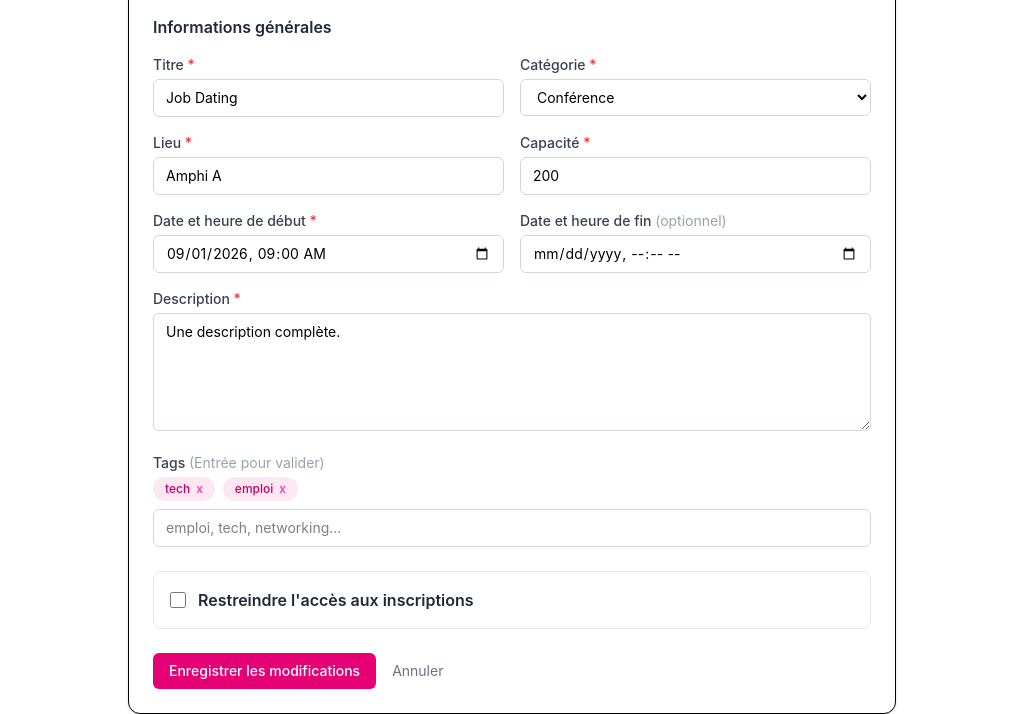
Test case: EventEditPage › shows 403 error when updateEvent is rejected with 403
(page scrolled)
Click the button "Enregistrer les modifications" at (265, 671), box [153,653,376,689]
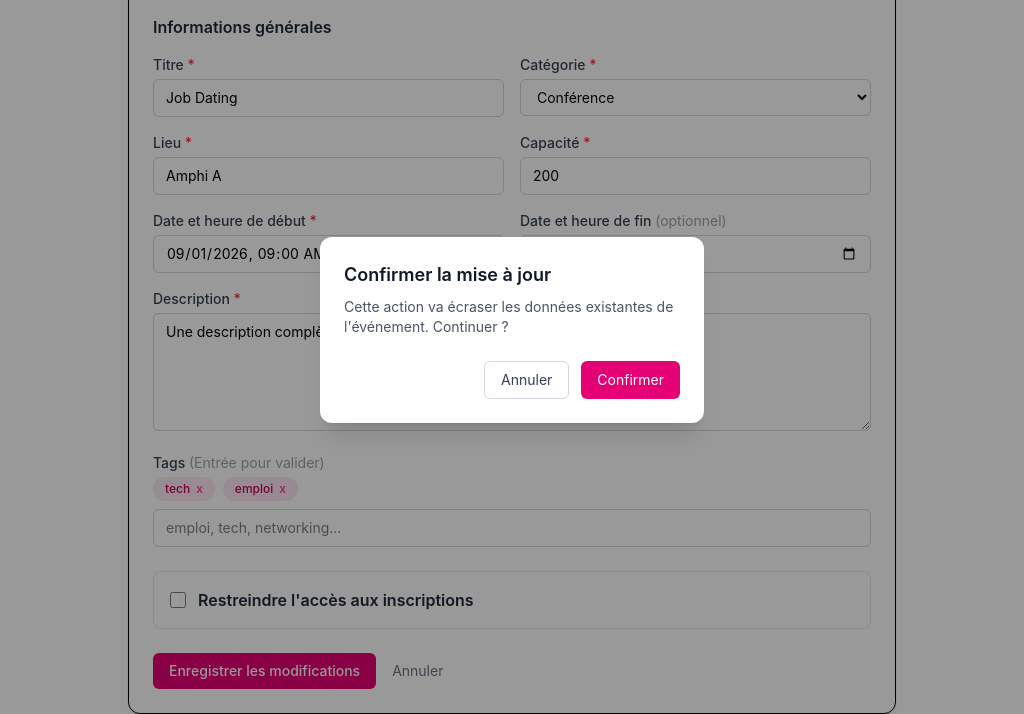
Now the heading "Confirmer la mise à jour" is shown, box [344,264,551,285]
Click the button "Confirmer" at (631, 380), box [581,361,680,399]
(page scrolled)
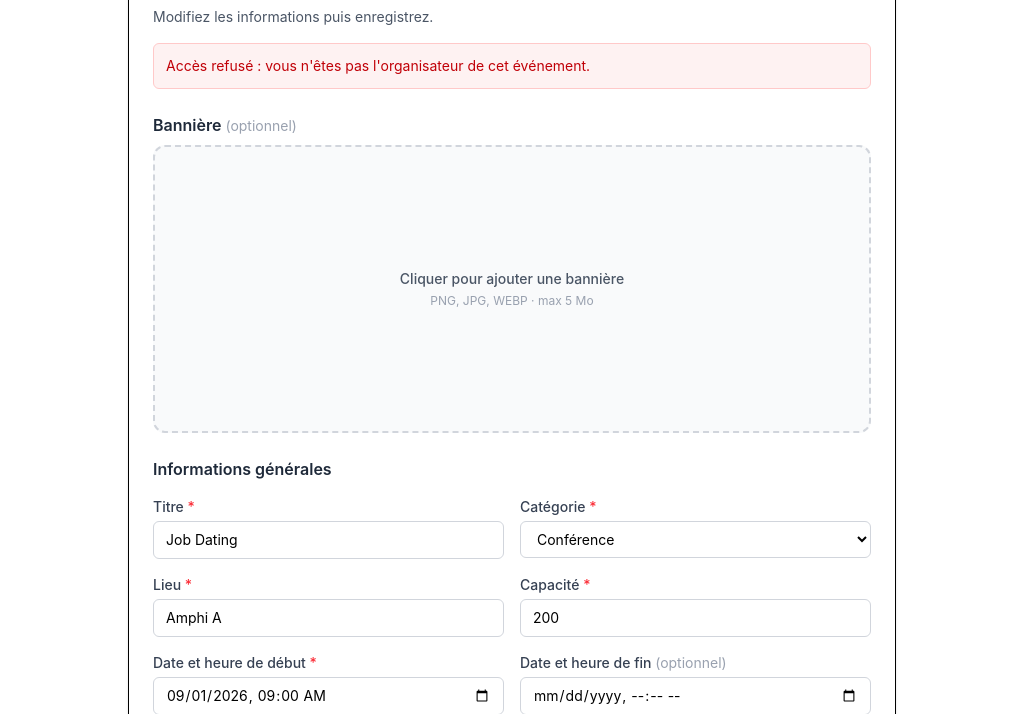
Now the text "Accès refusé" is shown, box [166,57,590,74]
